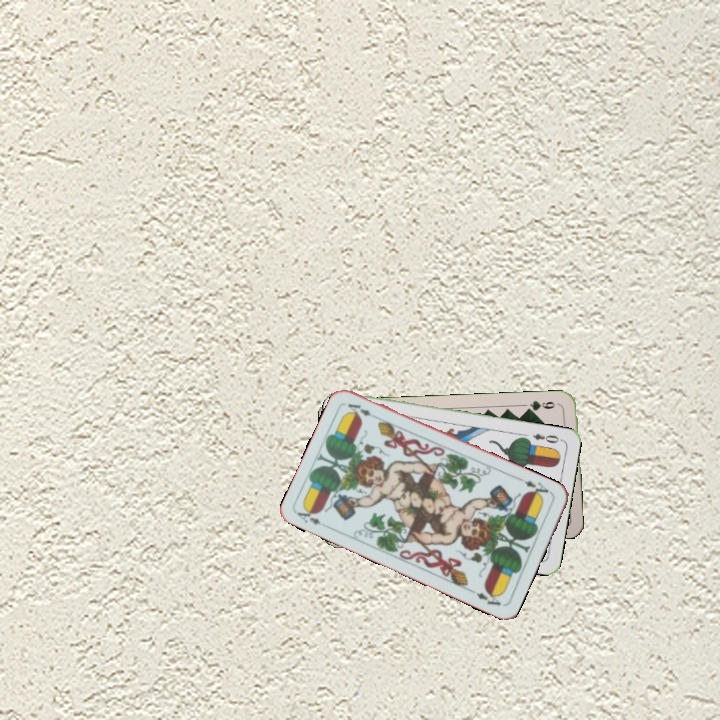EA: (293, 503, 332, 530), (516, 474, 554, 501)
EO: (529, 429, 565, 446)
G9: (522, 397, 562, 414)
